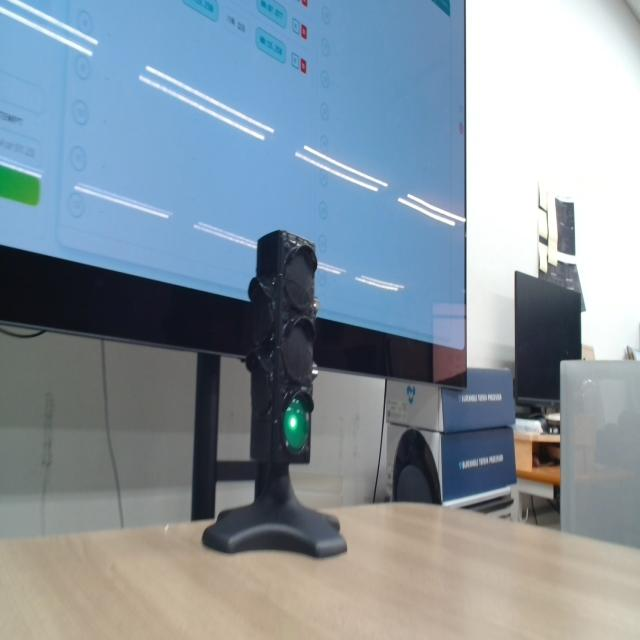green_light: (283, 398, 310, 453)
